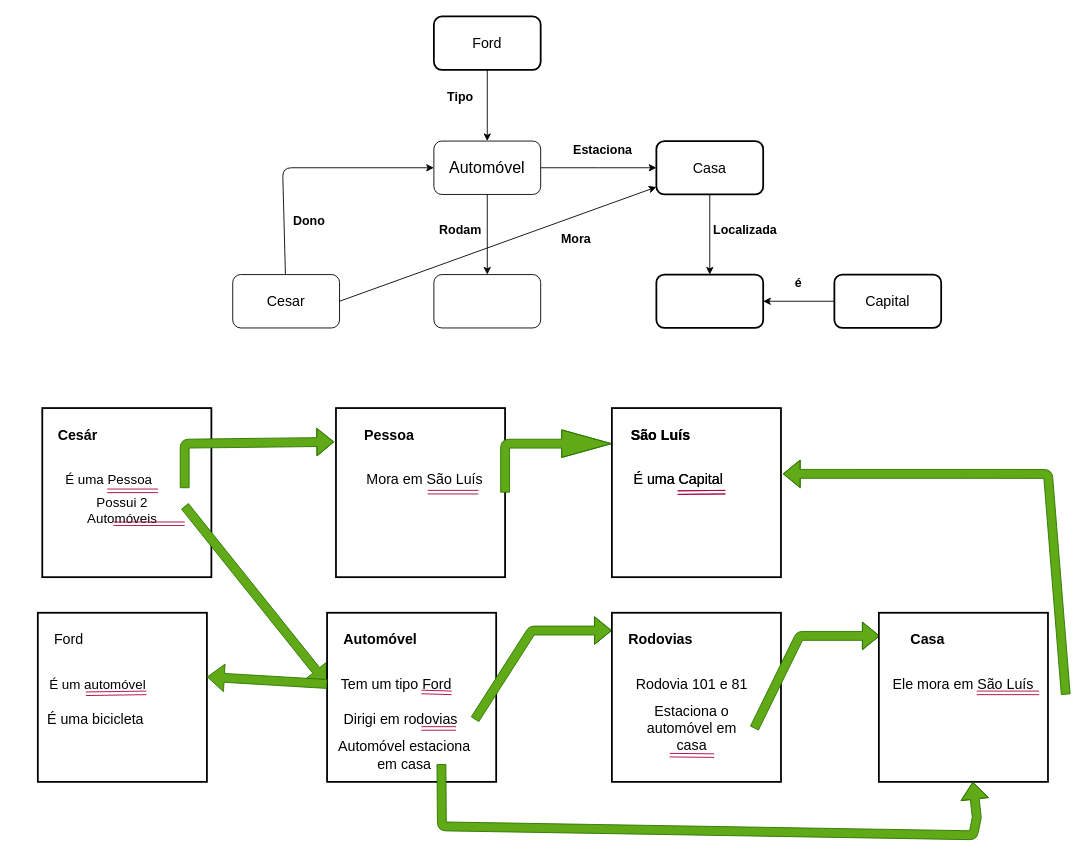
The diagram is 1086 pixels wide and 855 high, and some of its shapes have lost their labels. The shapes that lost their labels are listed below. From the top down, each one's centre as x and y in pixels, then its label:
pixel 487 301: Estradas ( Rota 101 e Rodovia)
pixel 709 300: São Luís - MA
